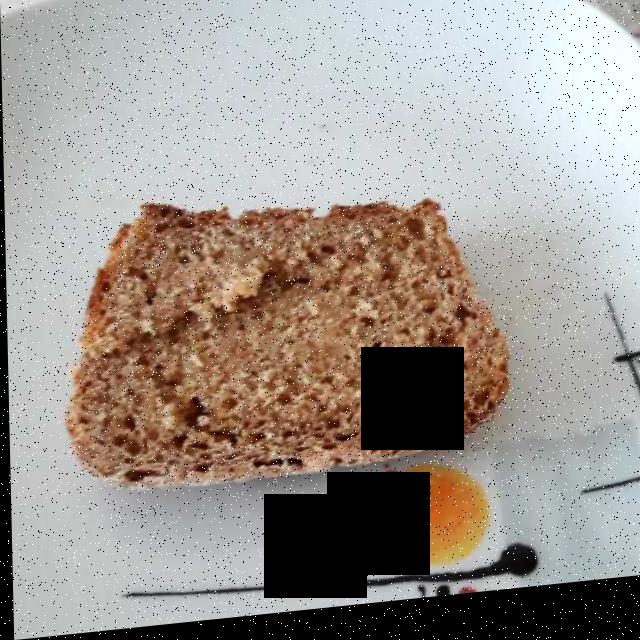bread-spelt: (71, 212, 503, 488)
